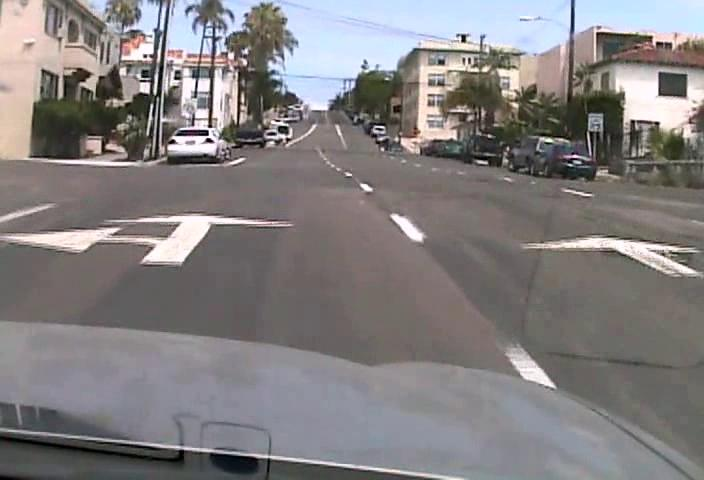speedLimit25: (587, 112, 604, 133)
